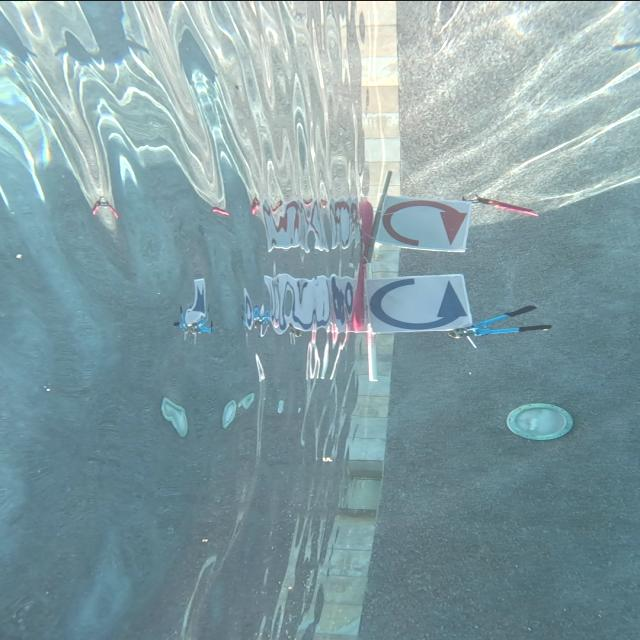blue_side: (364, 273, 469, 330)
red_side: (372, 198, 470, 252)
